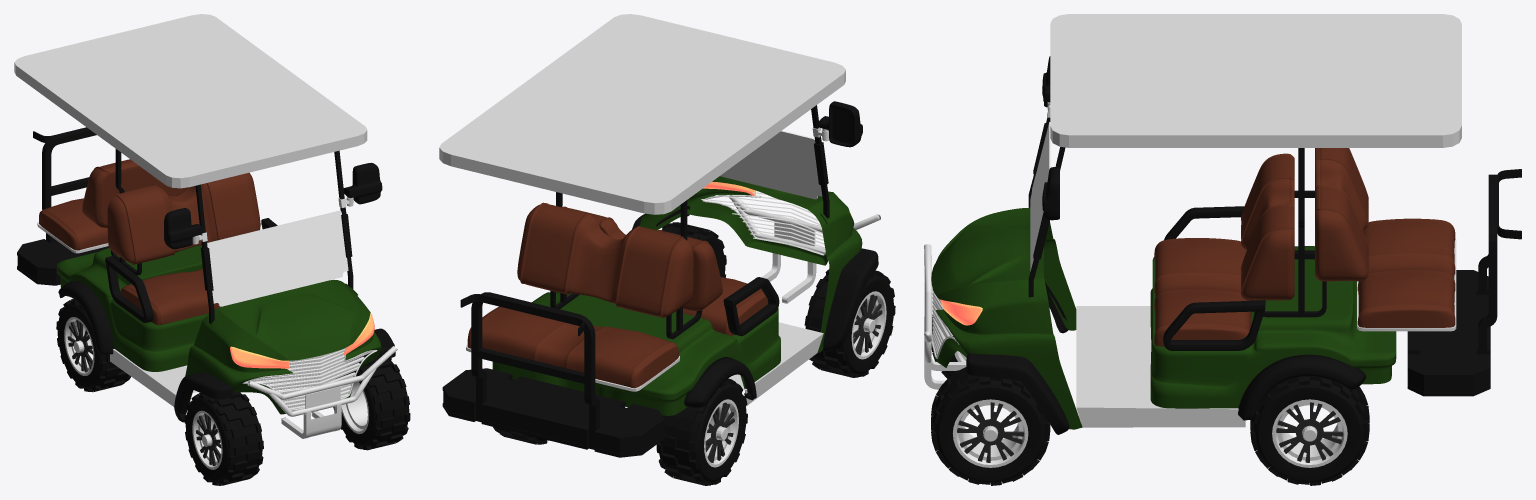
File: golf2.glb
3 views of the same model, side by side, from view 1: azimuth 30°, elevation 25°; view 2: azimuth 150°, elevation 25°; view 3: azimuth 270°, elevation 25° (orthographic). The views are drawn at different scales.
Parts seen in each view (by area): view 1: Cube, Cube.001, Cube.017, Plane.001, Cylinder, Cube.009, Cube.021, Cube.008, Cylinder.007, Cube.016, Plane.006, Cube.010 (+16 smaller); view 2: Cube, Cube.021, Plane.006, Cube.009, Cube.001, Cylinder.007, Cylinder, Plane.001, Cube.017, Plane.007, Plane.004, Plane.003 (+15 smaller); view 3: Cube, Cube.021, Cube.001, Cube.017, Cube.009, Plane.003, Plane.006, Cylinder, Cylinder.007, Cube.003, Plane.004, Plane.002 (+13 smaller).
Boxes of the visible parts, left/top/right/bottom form: Cube: left=14, top=14, right=367, bottom=188; Cube.001: left=185, top=280, right=381, bottom=414; Cube.017: left=107, top=172, right=260, bottom=325; Plane.001: left=207, top=210, right=348, bottom=306; Cylinder: left=184, top=353, right=410, bottom=485; Cube.009: left=57, top=245, right=208, bottom=371; Cube.021: left=39, top=159, right=187, bottom=250; Cube.008: left=164, top=162, right=382, bottom=249; Cylinder.007: left=56, top=299, right=130, bottom=392; Cube.016: left=247, top=351, right=373, bottom=409; Plane.006: left=17, top=239, right=109, bottom=285; Cube.010: left=195, top=150, right=353, bottom=323; Cube: left=439, top=14, right=845, bottom=214; Cube.021: left=467, top=202, right=693, bottom=388; Plane.006: left=442, top=368, right=664, bottom=457; Cube.009: left=492, top=292, right=780, bottom=415; Cube.001: left=640, top=176, right=862, bottom=352; Cylinder.007: left=493, top=378, right=747, bottom=485; Cylinder: left=662, top=222, right=895, bottom=377; Plane.001: left=720, top=130, right=822, bottom=199; Cube.017: left=562, top=206, right=768, bottom=335; Plane.007: left=471, top=292, right=599, bottom=449; Plane.004: left=632, top=206, right=878, bottom=351; Plane.003: left=728, top=322, right=823, bottom=406; Cube: left=1050, top=14, right=1461, bottom=147; Cube.021: left=1315, top=148, right=1455, bottom=327; Cube.001: left=931, top=207, right=1082, bottom=429; Cube.017: left=1154, top=153, right=1294, bottom=346; Cube.009: left=1150, top=246, right=1396, bottom=408; Plane.003: left=1076, top=306, right=1245, bottom=427; Plane.006: left=1407, top=270, right=1490, bottom=396; Cylinder: left=931, top=315, right=1050, bottom=485; Cylinder.007: left=1250, top=376, right=1369, bottom=485; Cube.003: left=1163, top=206, right=1265, bottom=350; Plane.004: left=966, top=282, right=1069, bottom=434; Plane.002: left=1238, top=354, right=1365, bottom=420.
Bounding box in the file's own units: 1.76 × 2.28 × 3.44.
